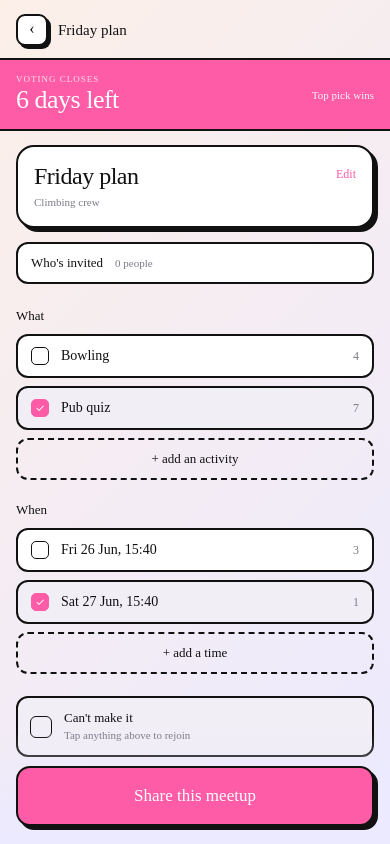
Test: EventDetail - collecting view (public counts, no names) › tapping a candidate I have not +1'd optimistically increments its count and toggles my pick
Expected: the text "4" is shown, 353,348 -> 359,364
What coordinates should you click on to do the following:
click the text "Bowling"
I would click on:
 (85, 356)
Its box is 61,348 -> 109,363.
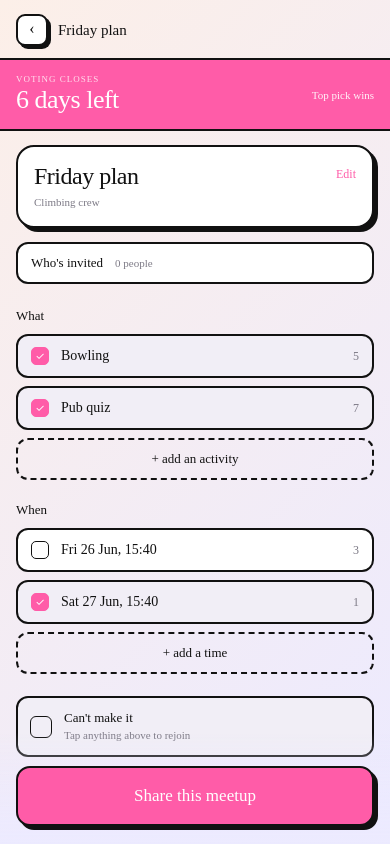
Expected: the text "5" is shown, 353,348 -> 359,364
